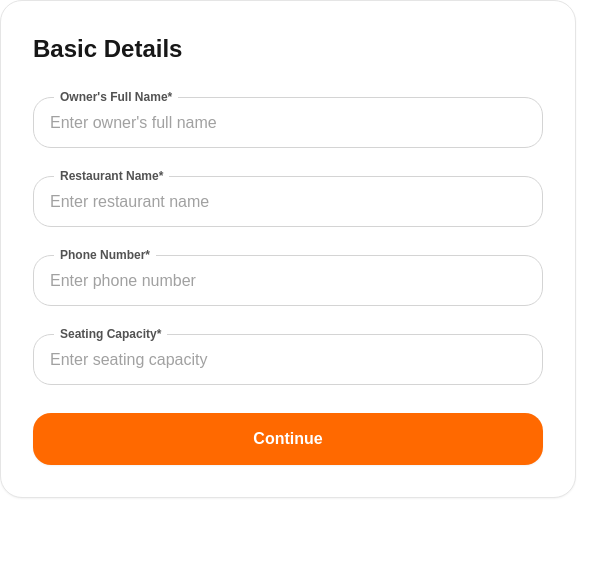
Scenario: BusinessInformationPage › validates phone number and seating capacity restrictions
The image size is (593, 567).
Type "John Doe" into the field labelled "Owner's Full Name*" at (288, 123), box top-left (50, 107), bottom-right (526, 139)
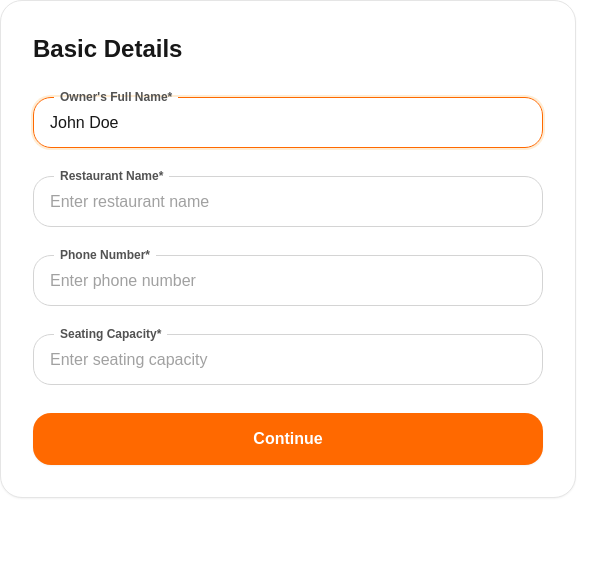
Type "Tasty Bites" into the field labelled "Restaurant Name*" at (288, 202), box top-left (50, 186), bottom-right (526, 218)
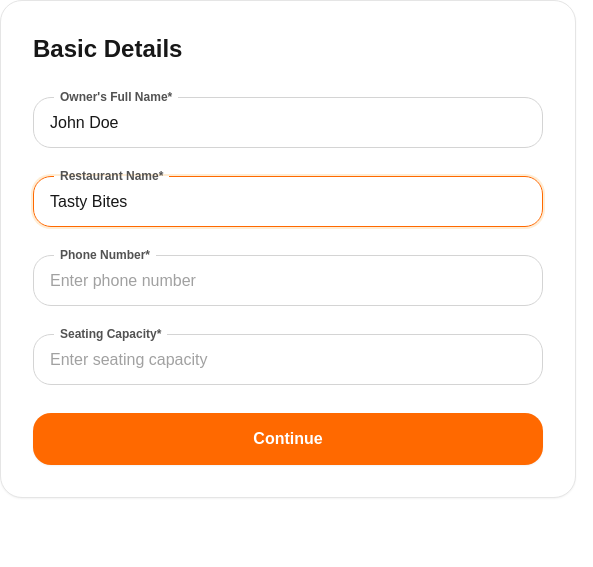
Type "abc123" into the field labelled "Phone Number*" at (288, 281), box top-left (50, 265), bottom-right (526, 297)
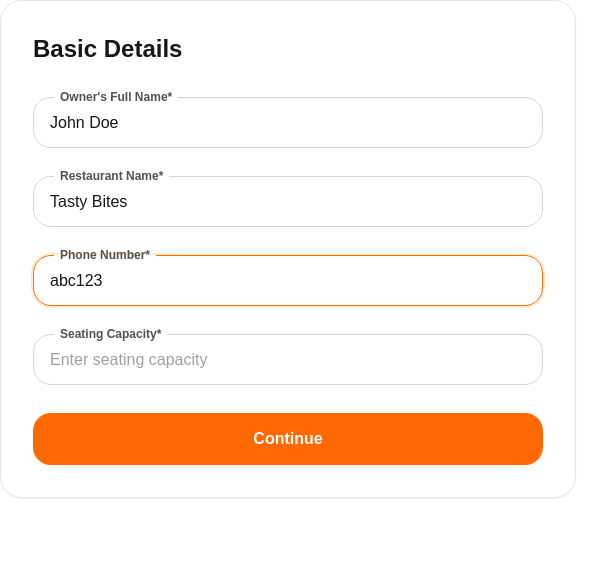
Type "-5" into the number field labelled "Seating Capacity*" at (288, 360), box top-left (50, 344), bottom-right (526, 376)
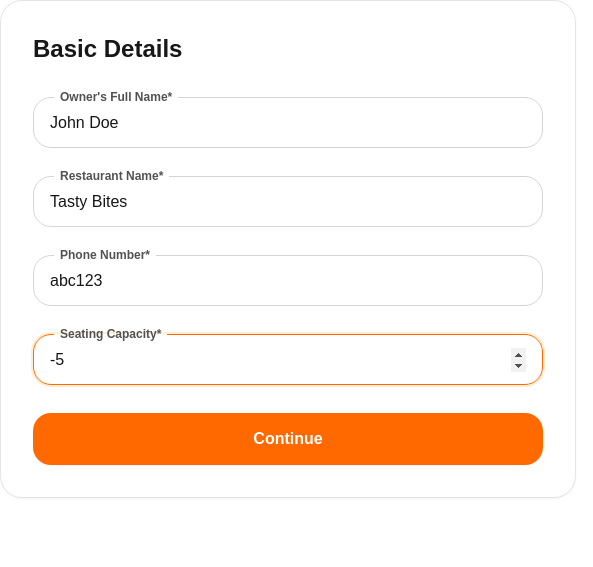
Click the button "Continue" at (288, 439), box top-left (33, 413), bottom-right (543, 465)
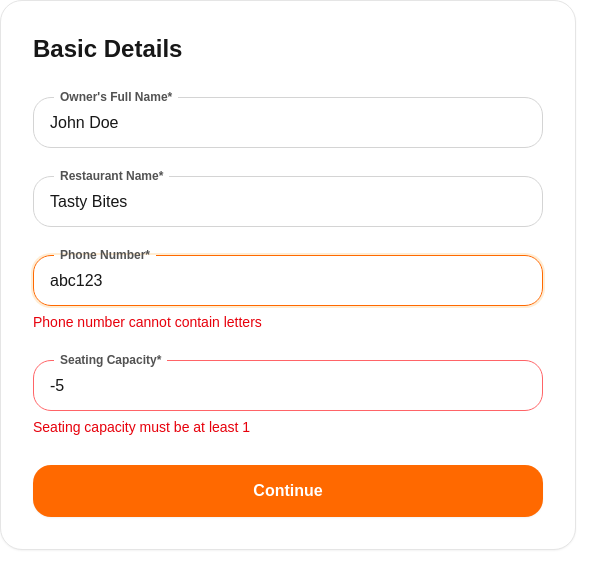
Expected: the text "Phone number cannot contain letters" is shown, top-left (33, 314), bottom-right (262, 330)
Expected: the text "Seating capacity must be at least 1" is shown, top-left (33, 419), bottom-right (250, 435)
